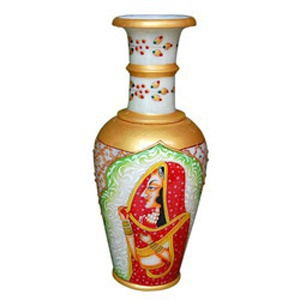flowerpot: (94, 15, 208, 289)
